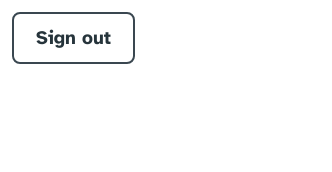
Scenario: SignOutButton › says it could not sign out, and offers to try again, when it fails
Click the button "Sign out".
click(74, 38)  # box [12, 12, 135, 64]
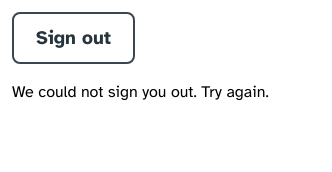
Expected: the message reads "We could not sign you out. Try again.", [12, 82, 269, 102]
